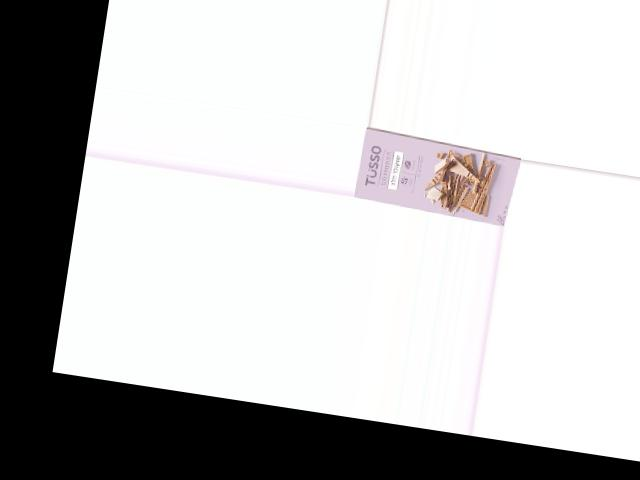chocolate: (357, 131, 522, 223)
